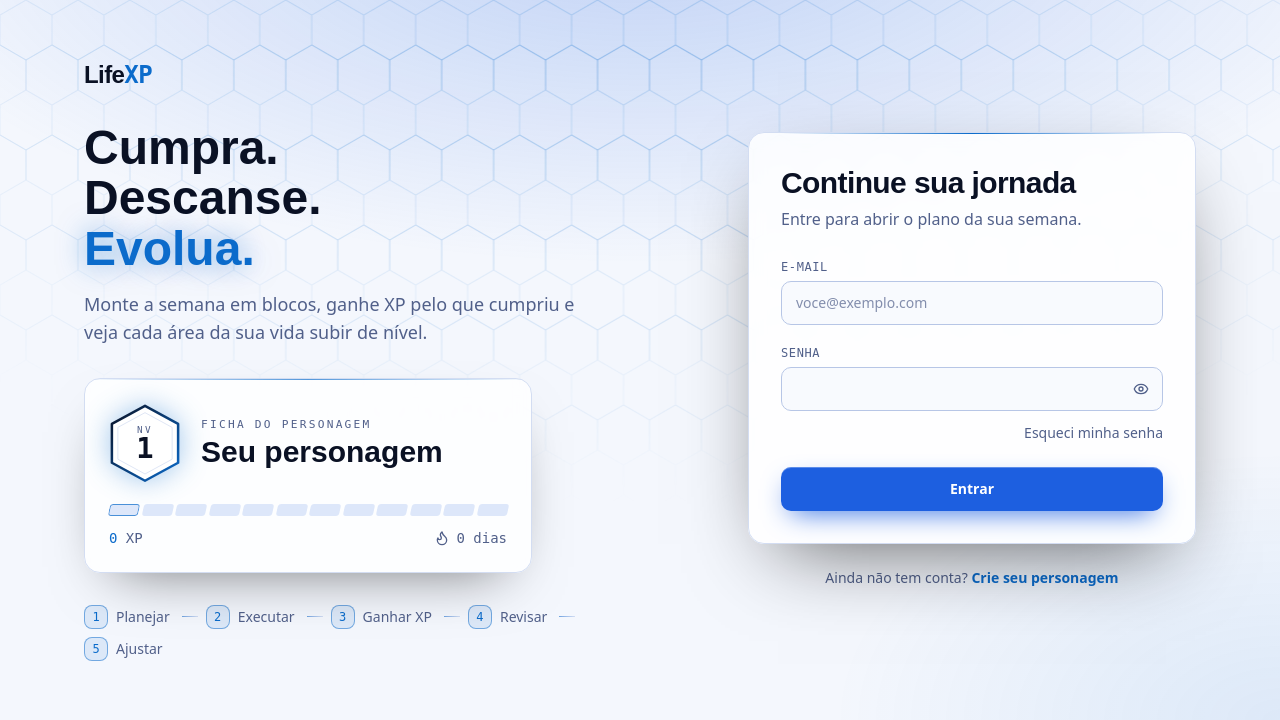
it: rotas e telas de auth › mostra a mensagem do servidor quando as credenciais são inválidas
This screenshot has width=1280, height=720.
In the field labelled "E-mail": (972, 303) [781,281,1163,325], type "ana@mail.com"
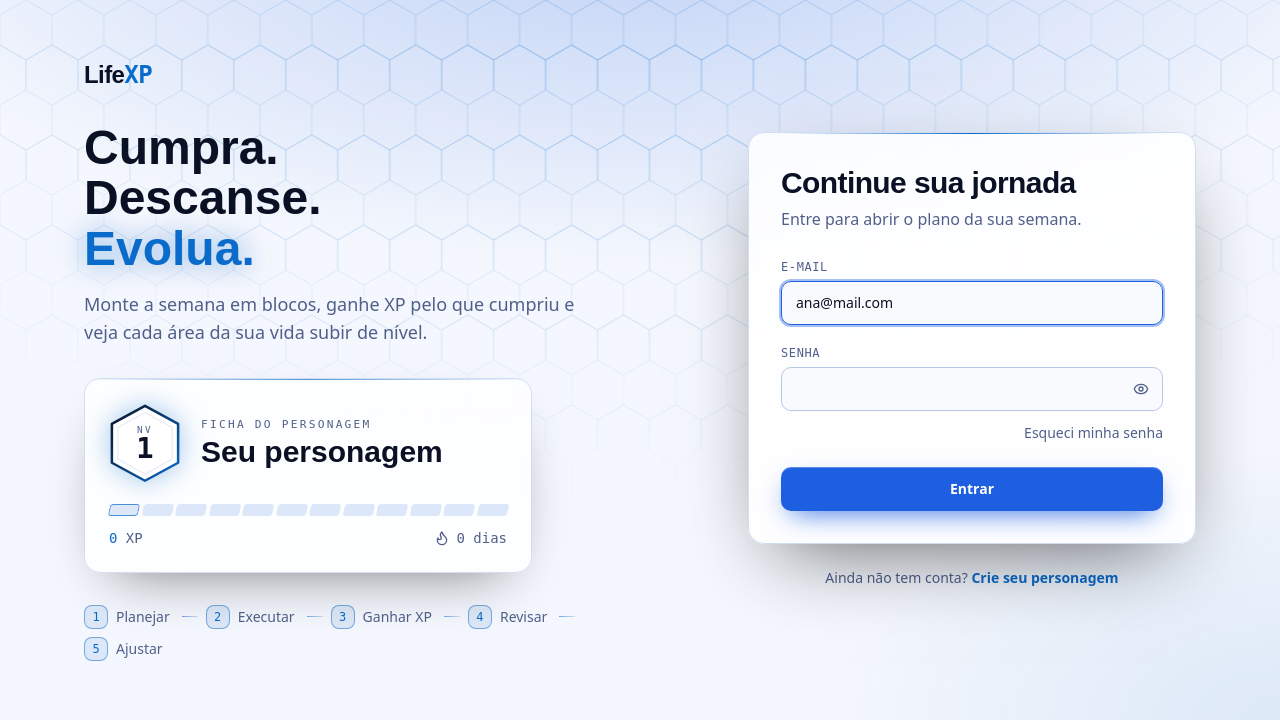
In the password field labelled "Senha": (972, 389) [781,367,1163,411], type "errada"
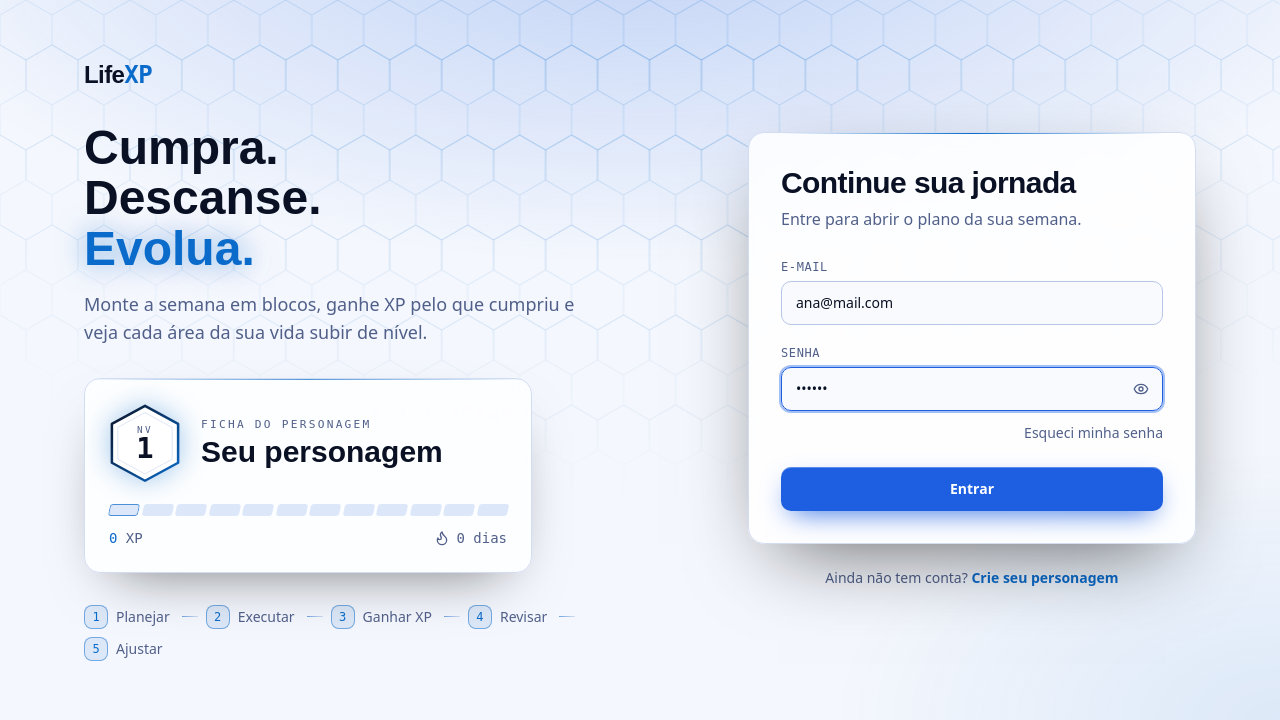
Click the button "Entrar": click(972, 489) [781,467,1163,511]
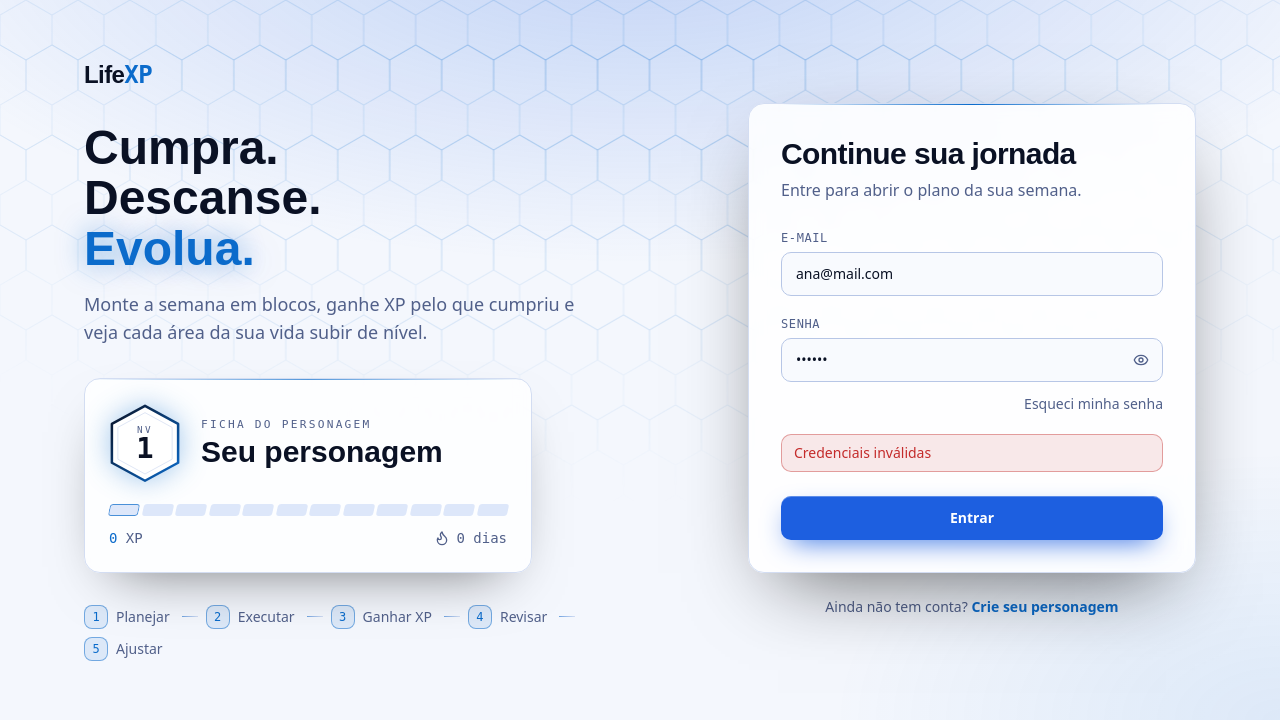
Check: the message reads "Credenciais inválidas", box [794,443,931,462]
